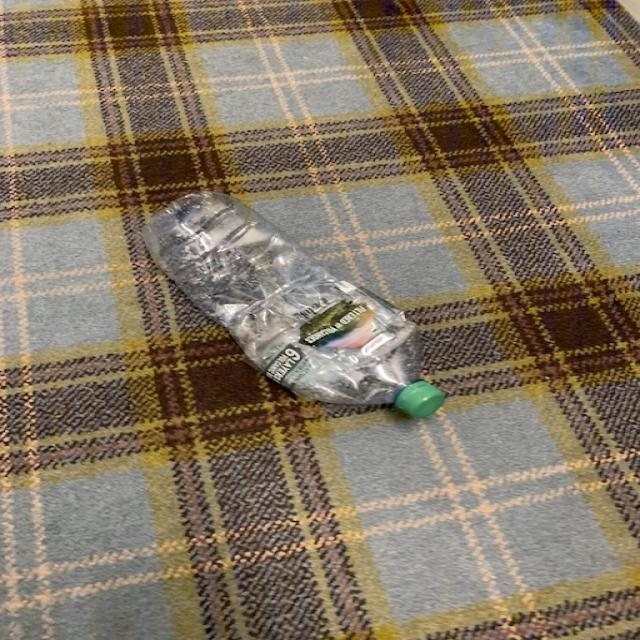Waste: (142, 192, 446, 418)
